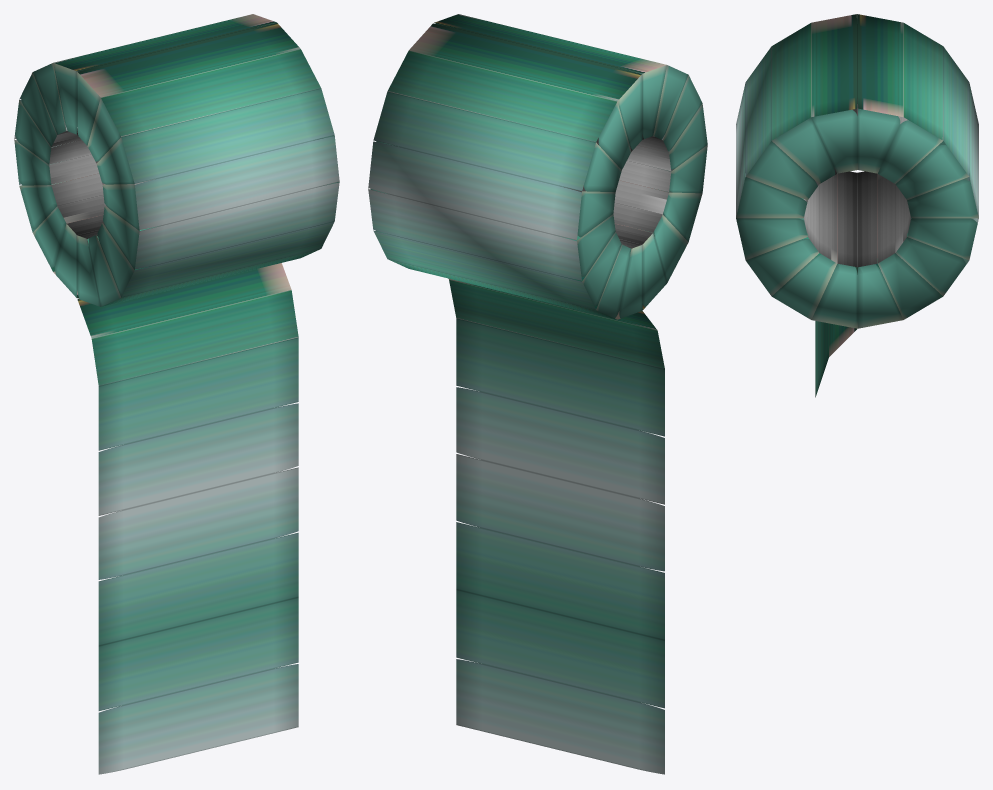
3 views of the same model, side by side, from view 1: azimuth 30°, elevation 25°; view 2: azimuth 150°, elevation 25°; view 3: azimuth 270°, elevation 25° (orthographic). The views are drawn at different scales.
Visible parts, largest first — view 1: T1L5M005_3; view 2: T1L5M005_3; view 3: T1L5M005_3.
Boxes of the visible parts, x1,y1,x2,y2 form: T1L5M005_3: (14, 14, 339, 774); T1L5M005_3: (368, 14, 707, 774); T1L5M005_3: (736, 14, 978, 397).
Size of the model in its own units: 0.3193 by 1.05 by 0.3467.
